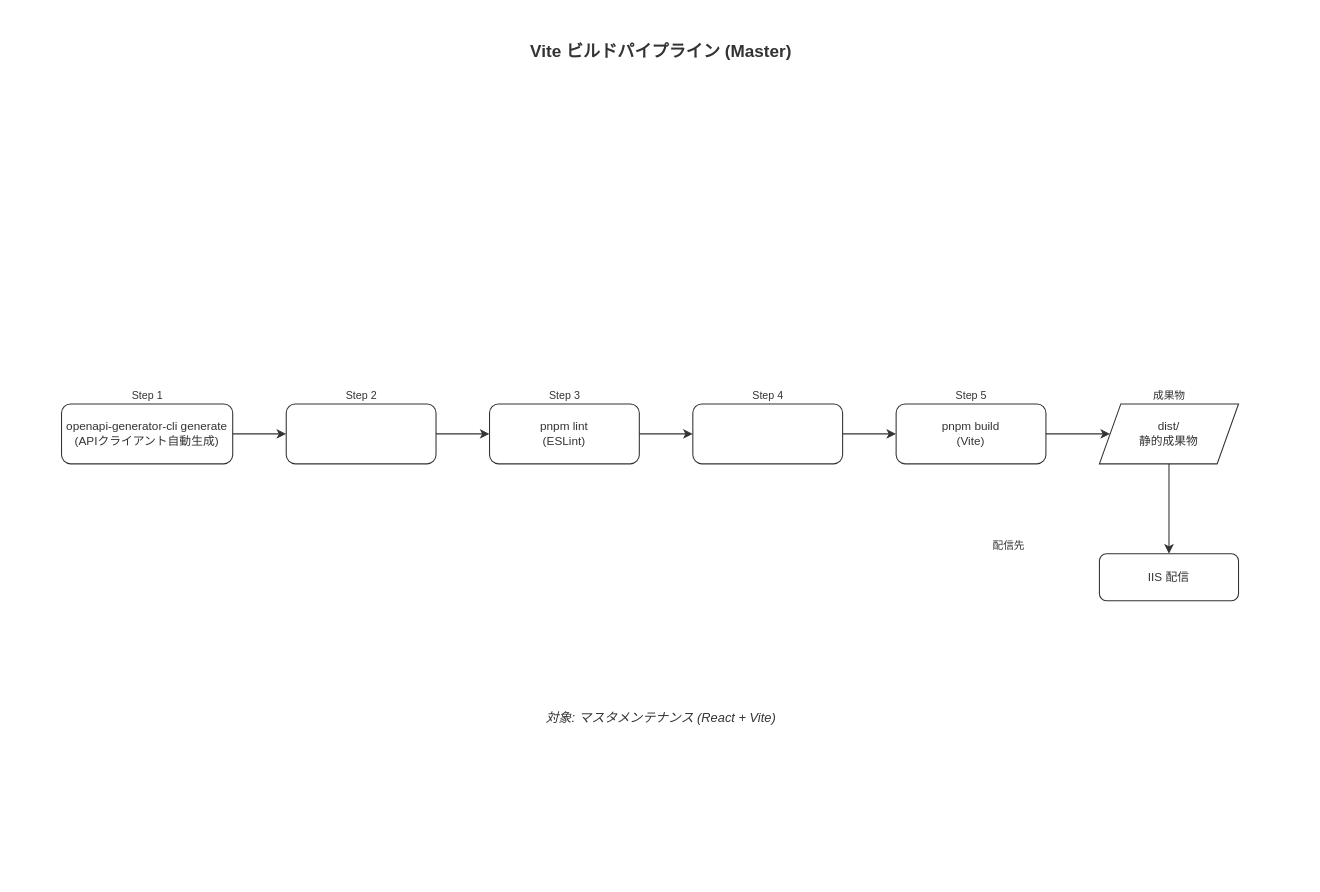
Some shapes in this 1320 by 892 pixel diagram are drawn without their labels. The box of each missing label's shape, as (x1, y1, x2, y2) in pixels:
pnpm test (Vitest): (692, 403, 843, 464)
pnpm type-check (tsc): (285, 403, 436, 464)
